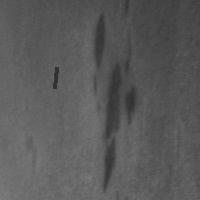inclusion: (91, 9, 137, 194), (87, 4, 112, 75), (20, 132, 40, 174), (122, 83, 140, 128), (52, 65, 58, 90)
